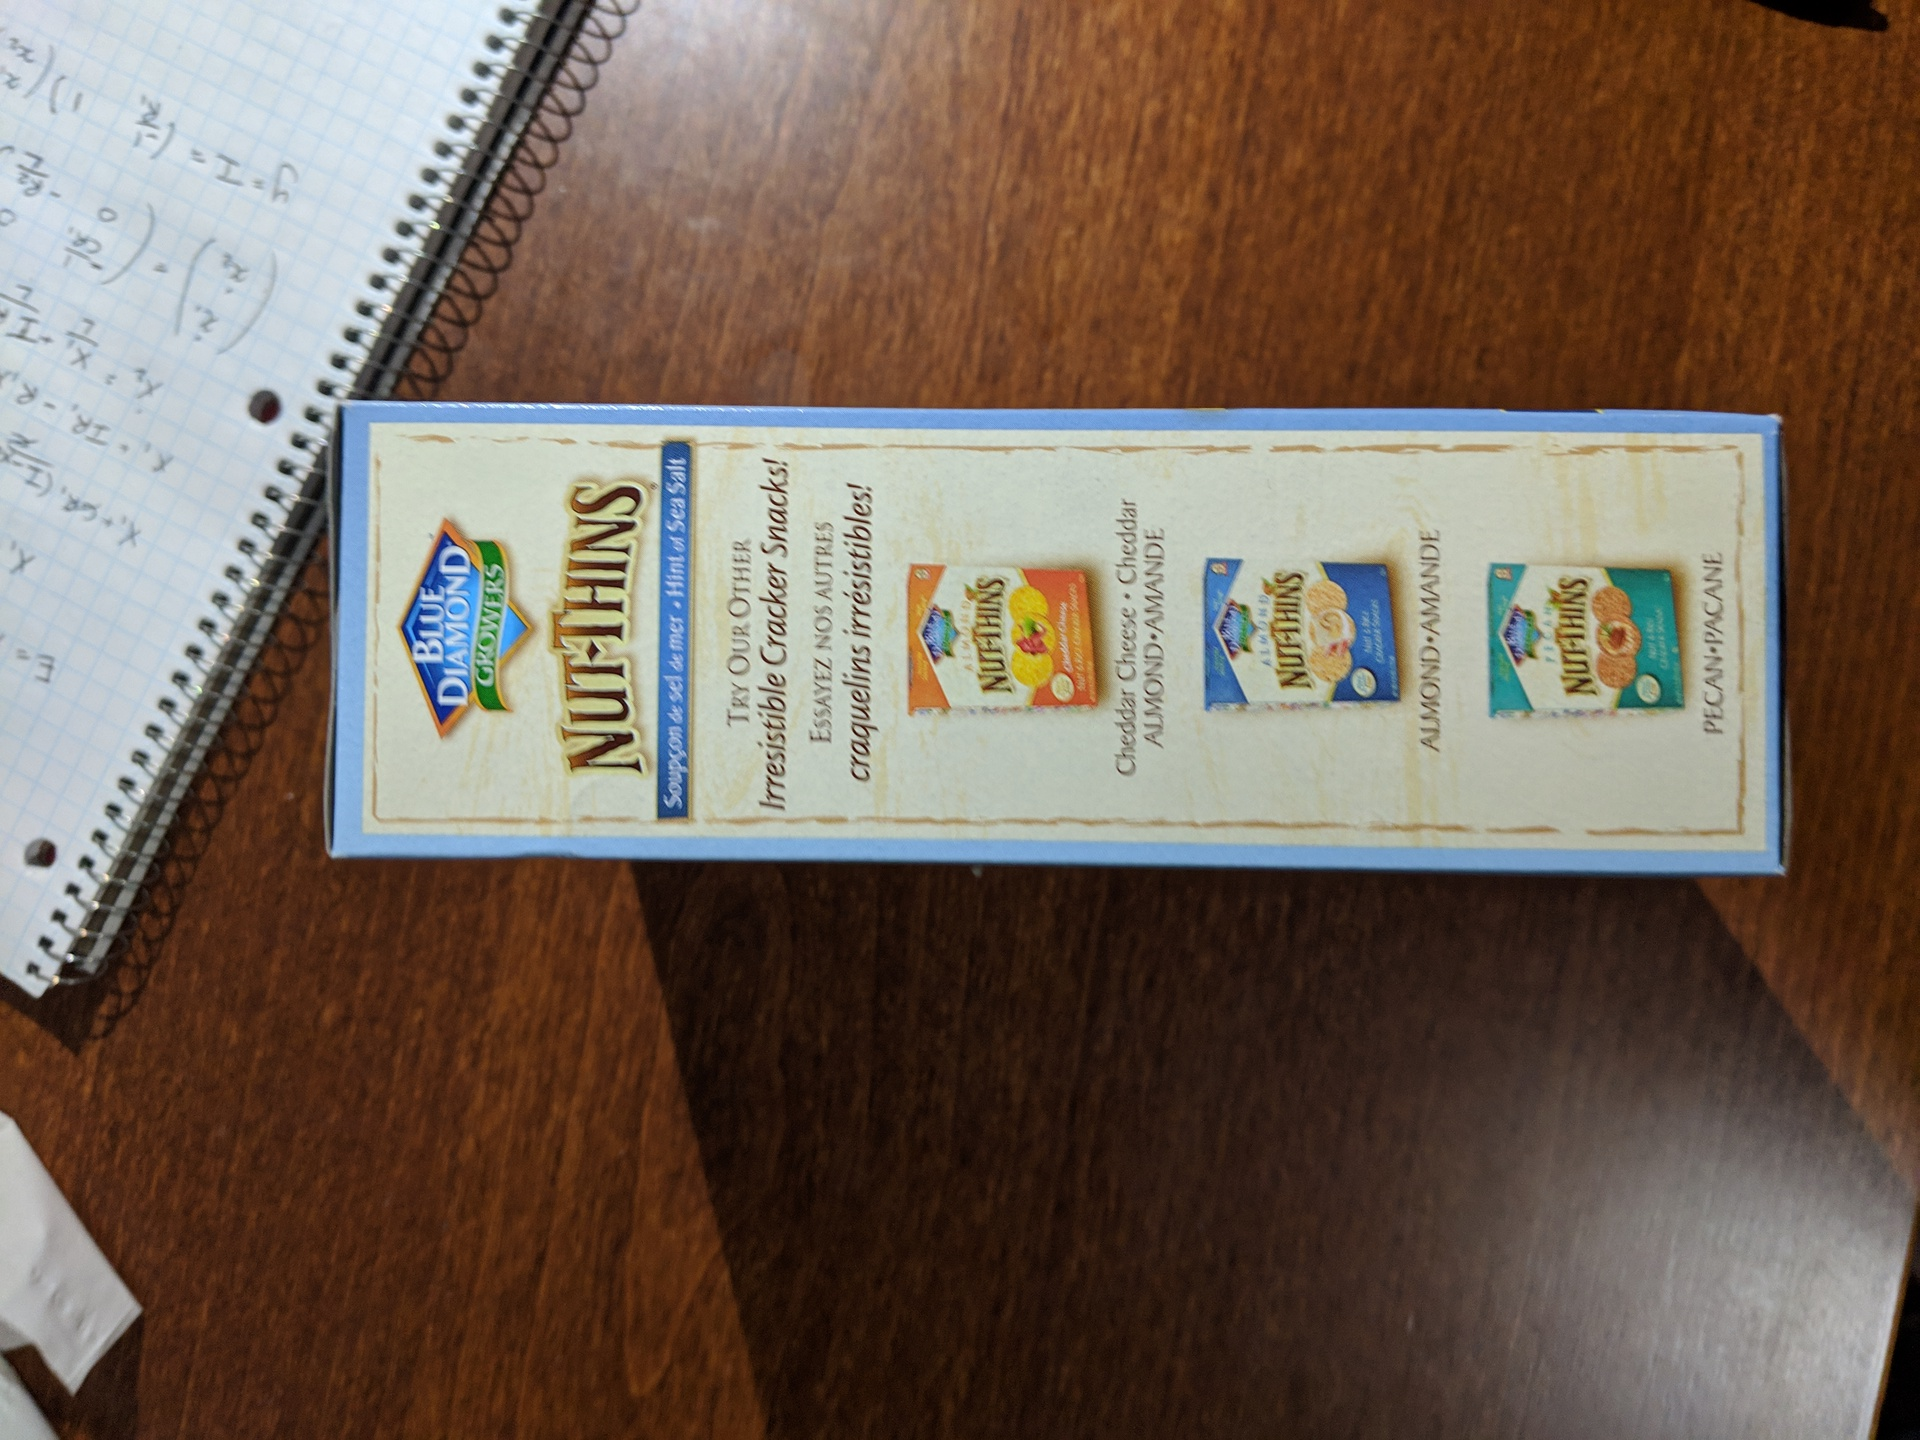blue_diamond_nut_thins_almond_seasalt: (328, 399, 1791, 879)
